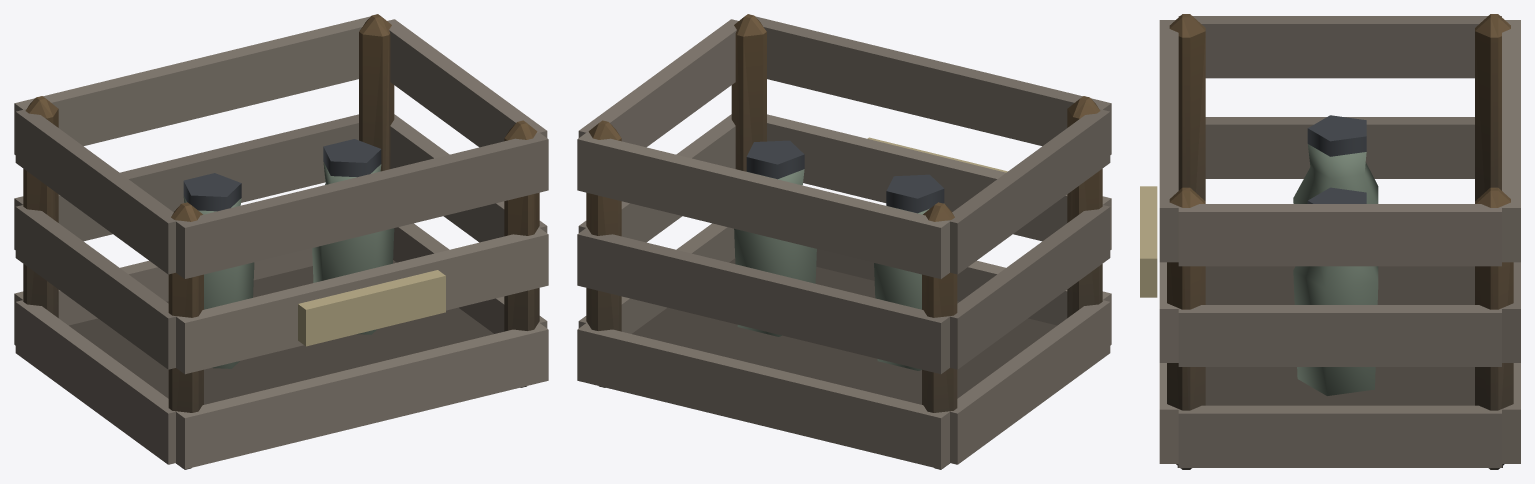
The model's file is produce-crate.glb.
3 renders of one model, left to right at view 1: azimuth 30°, elevation 25°; view 2: azimuth 150°, elevation 25°; view 3: azimuth 270°, elevation 25°, orthographic. The views are drawn at different scales.
Parts seen in each view (by area): view 1: produce_crate; view 2: produce_crate; view 3: produce_crate.
Boxes of the visible parts, left/top/right/bottom form: produce_crate: left=14, top=14, right=548, bottom=469; produce_crate: left=577, top=14, right=1111, bottom=469; produce_crate: left=1140, top=14, right=1520, bottom=469.
Bounding box in the file's own units: 0.542 × 0.36 × 0.445.
